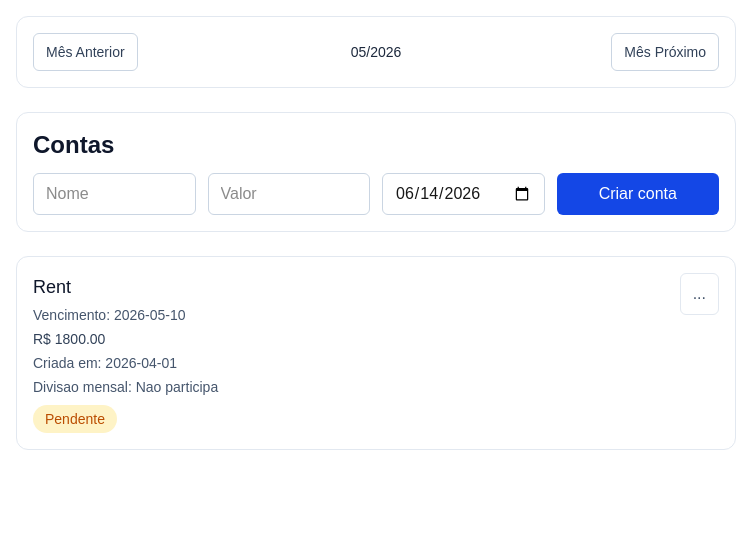
Test case: AccountsList › edits an account via menu
Click the button "..." at (699, 294), box [680, 273, 719, 315]
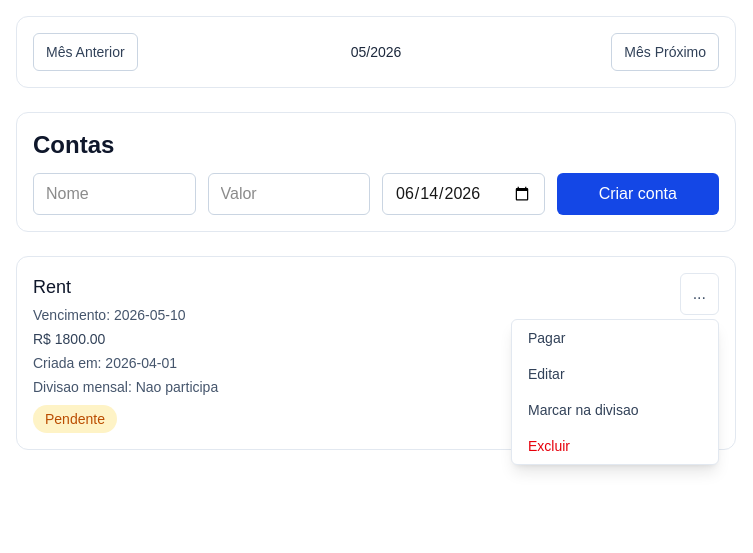
Click the button "Editar" at (615, 374), box [512, 356, 718, 392]
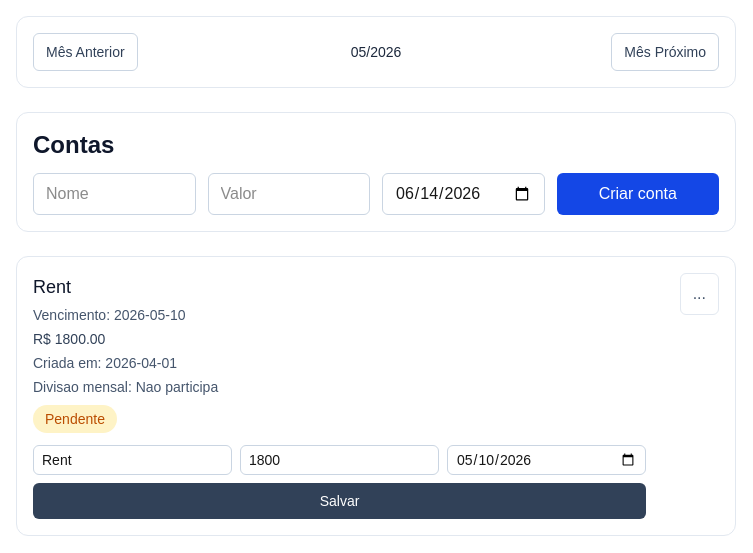
Replace the text in the field named "Editar nome da conta" with "Rent updated" at (132, 460), box [33, 445, 232, 475]
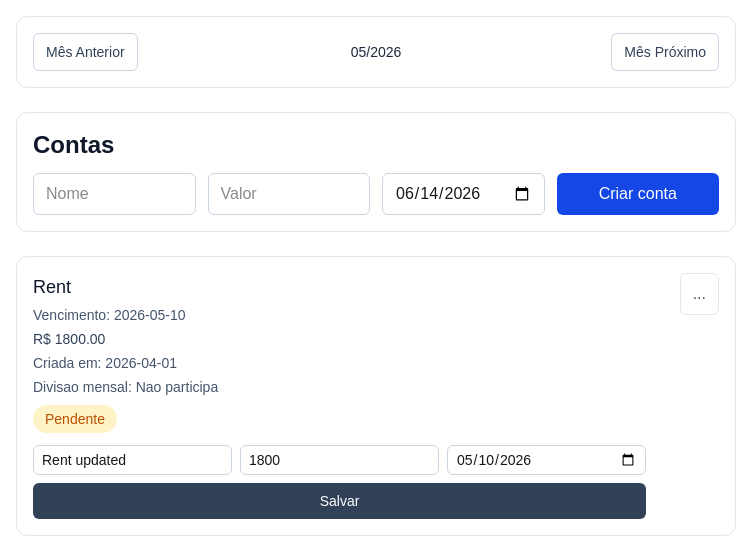
Click the button "Salvar" at (340, 501), box [33, 483, 646, 519]
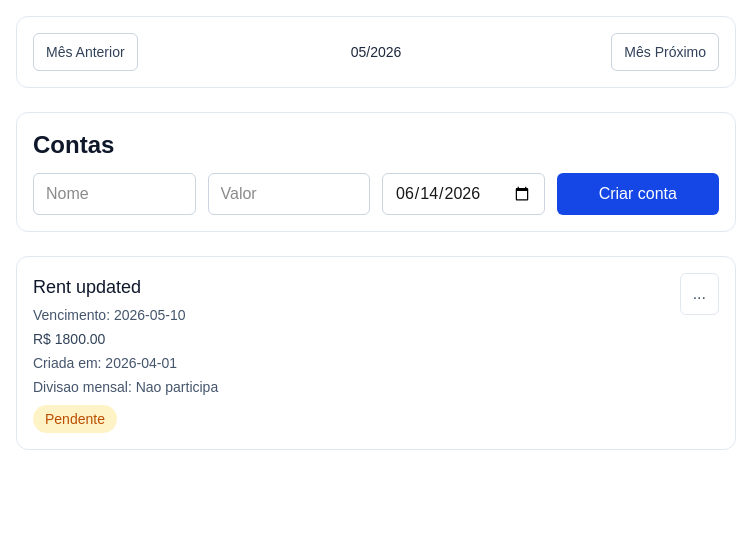
Now the text "Rent updated" is shown, box [33, 277, 141, 297]
